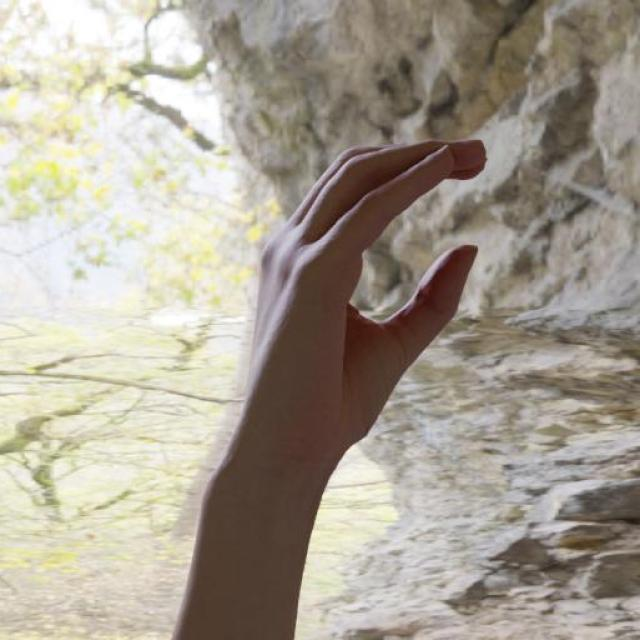C: (204, 124, 502, 500)
